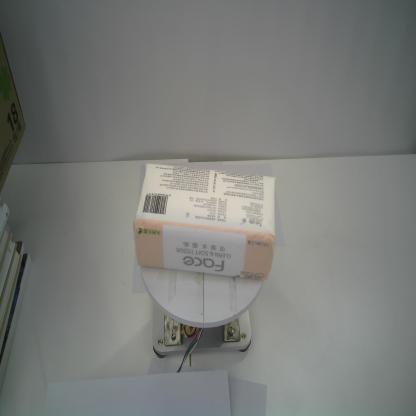Tissue: (132, 162, 277, 283)
